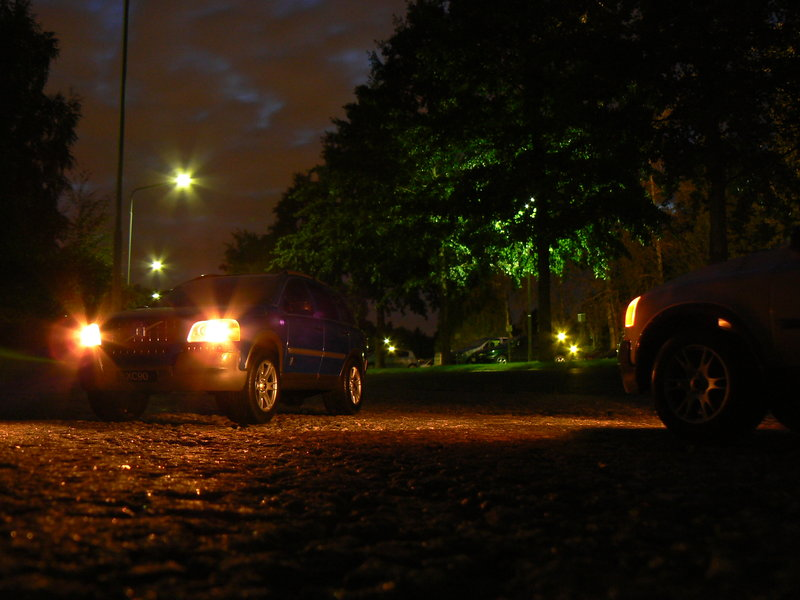car: (69, 261, 385, 433)
